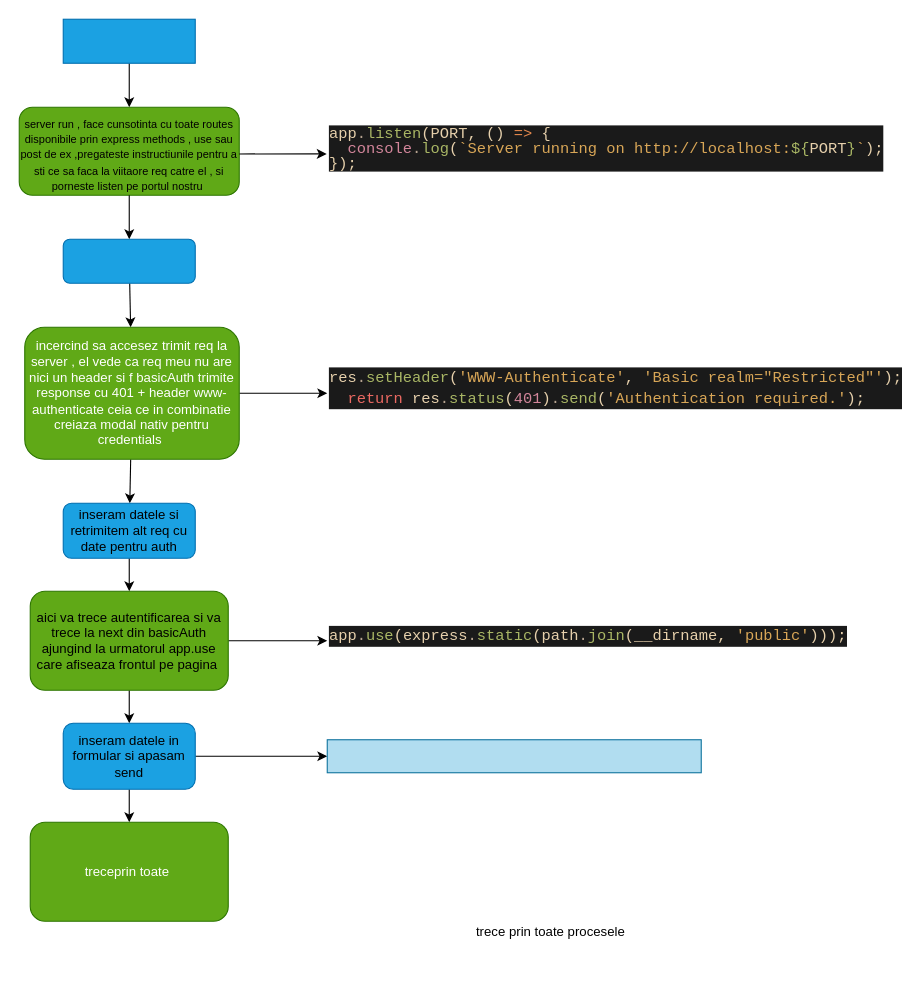
Image size: 922x1007. Some labels were removed from this diagram. Here are the shapes that lost their labels. From the top down, the box of each, then its label:
(62, 18, 195, 63): npm start
(62, 238, 195, 283): localhost:PORT
(326, 739, 701, 773): fetch('/copy-template', { method: 'POST', ... })
